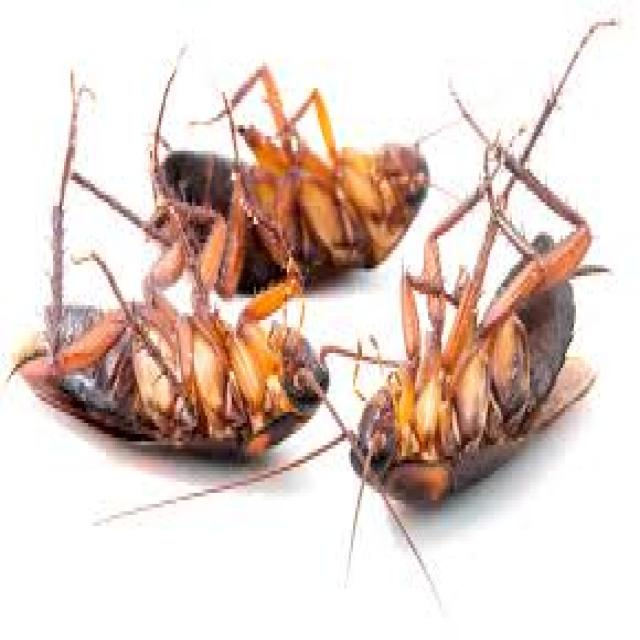Cockroach: (347, 85, 602, 522), (17, 195, 336, 504), (150, 77, 446, 302)
